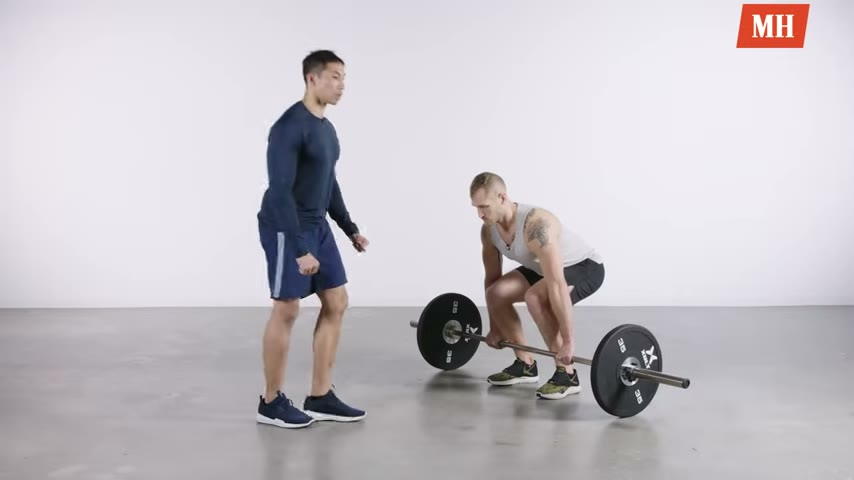barbell_plate_side: (408, 291, 482, 423), (612, 318, 692, 432)
